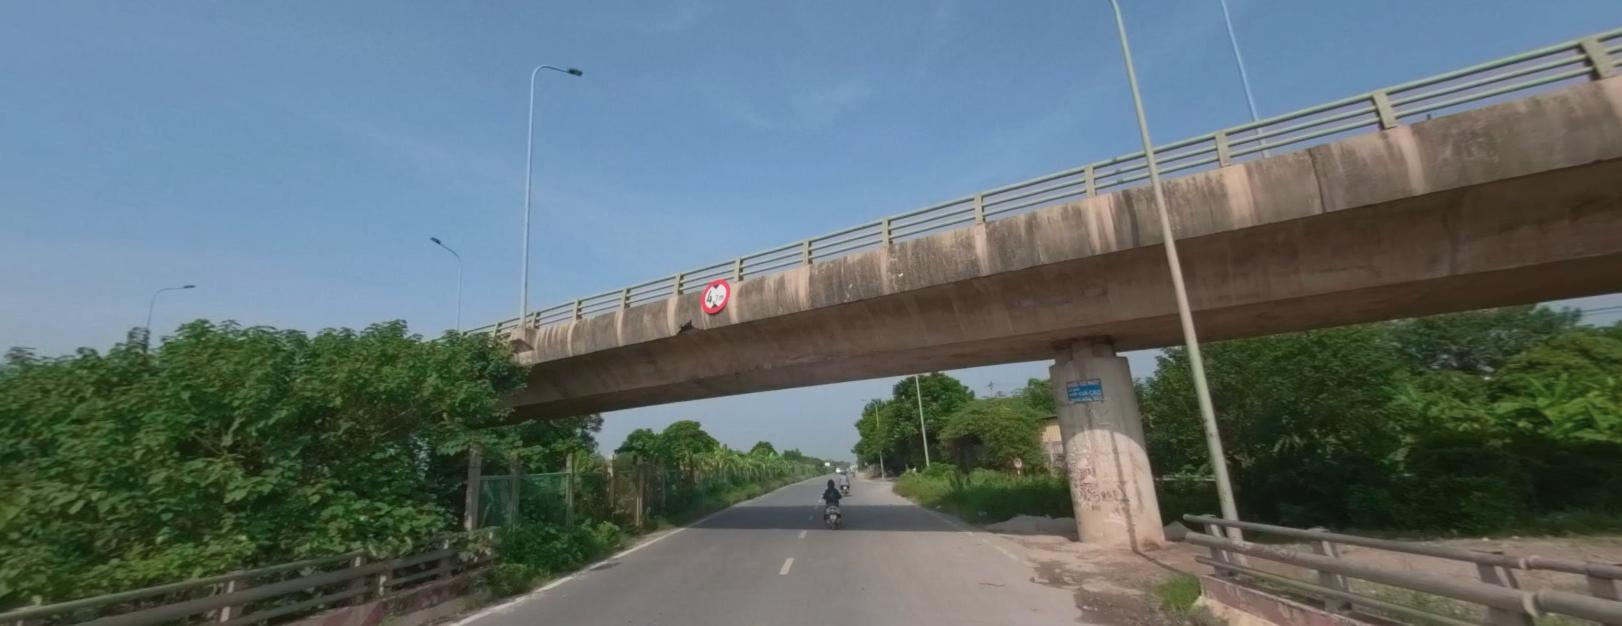Cam con lai: (701, 274, 729, 312)
